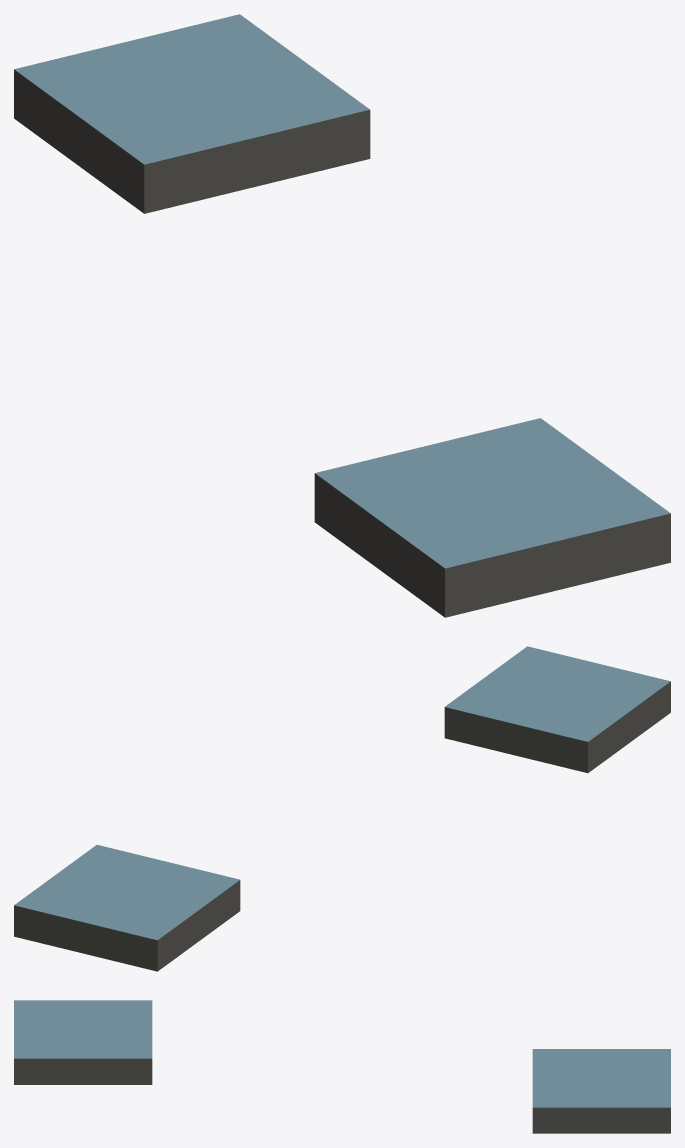
The model's file is 1467-Buildings-shell-pieces-roof-plant-emitRoofPlant-20-triangles-2-20-x-0-25-x-5-70-.glb.
The picture shows the model from 3 angles, top to bottom: view 1: azimuth 30°, elevation 25°; view 2: azimuth 150°, elevation 25°; view 3: azimuth 270°, elevation 25°; orthographic projection. The views are drawn at different scales.
Visible parts, largest first — view 1: emitRoofPlant; view 2: emitRoofPlant; view 3: emitRoofPlant.
Part boxes in pixels (x1,y1,x2,y2): emitRoofPlant: (14, 14, 670, 617); emitRoofPlant: (14, 646, 670, 971); emitRoofPlant: (14, 1000, 670, 1133).
Bounding box in the file's own units: 2.2 × 0.25 × 5.7.
